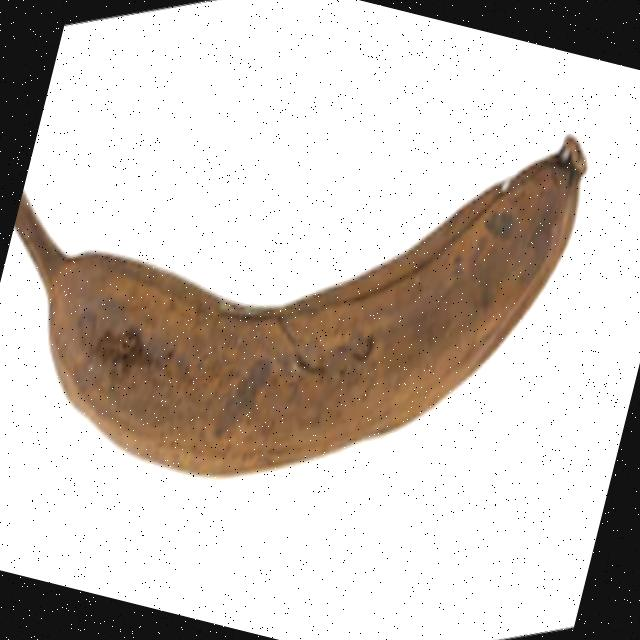Rotten: (0, 0, 611, 567)
